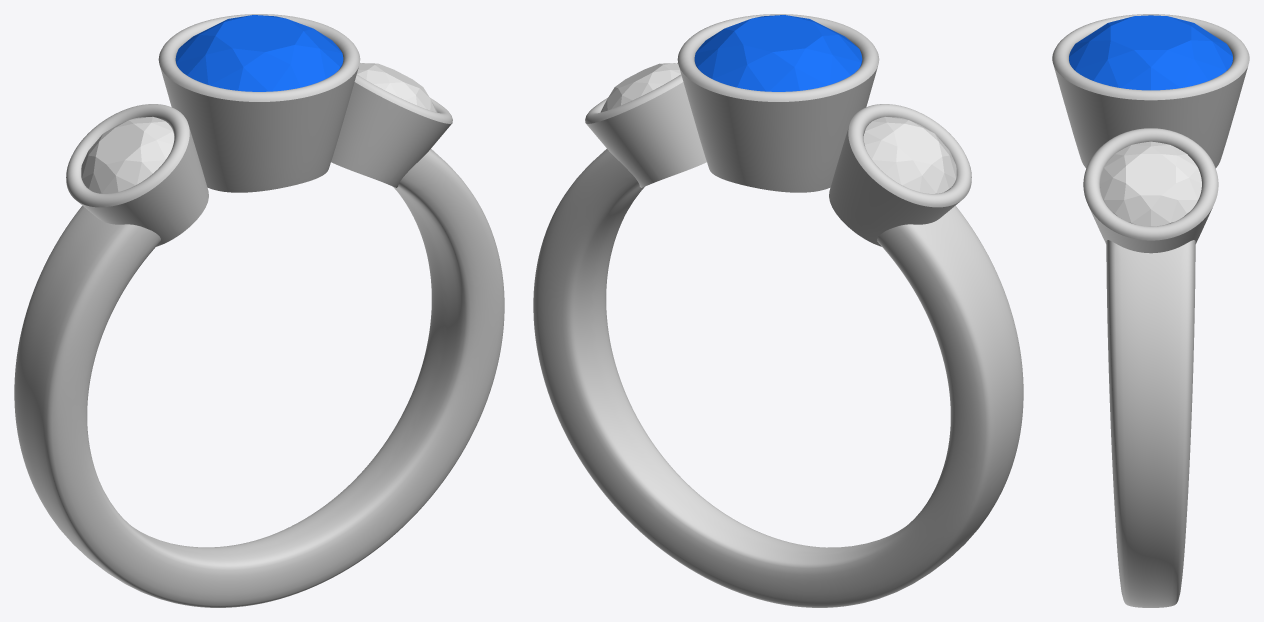
File: bluesapphire-round-platinum-bezelset-straighttaperedband-2stone.glb
3 renders of one model, left to right at view 1: azimuth 30°, elevation 25°; view 2: azimuth 150°, elevation 25°; view 3: azimuth 270°, elevation 25°, orthographic. The views are drawn at different scales.
Visible parts, largest first — view 1: metal, stone, side, side.001; view 2: metal, stone, side, side.001; view 3: metal, stone, side.001.
Boxes of the visible parts, x1,y1,x2,y2 form: metal: (14,14,504,607); stone: (175,15,343,91); side: (81,116,174,193); side.001: (357,63,437,112); metal: (533,14,1023,607); stone: (694,15,862,91); side: (863,116,956,193); side.001: (600,63,680,112); metal: (1052,14,1249,607); stone: (1069,15,1232,90); side.001: (1100,141,1201,226).
Bounding box in the file's own units: 20.51 × 23.81 × 7.74.
